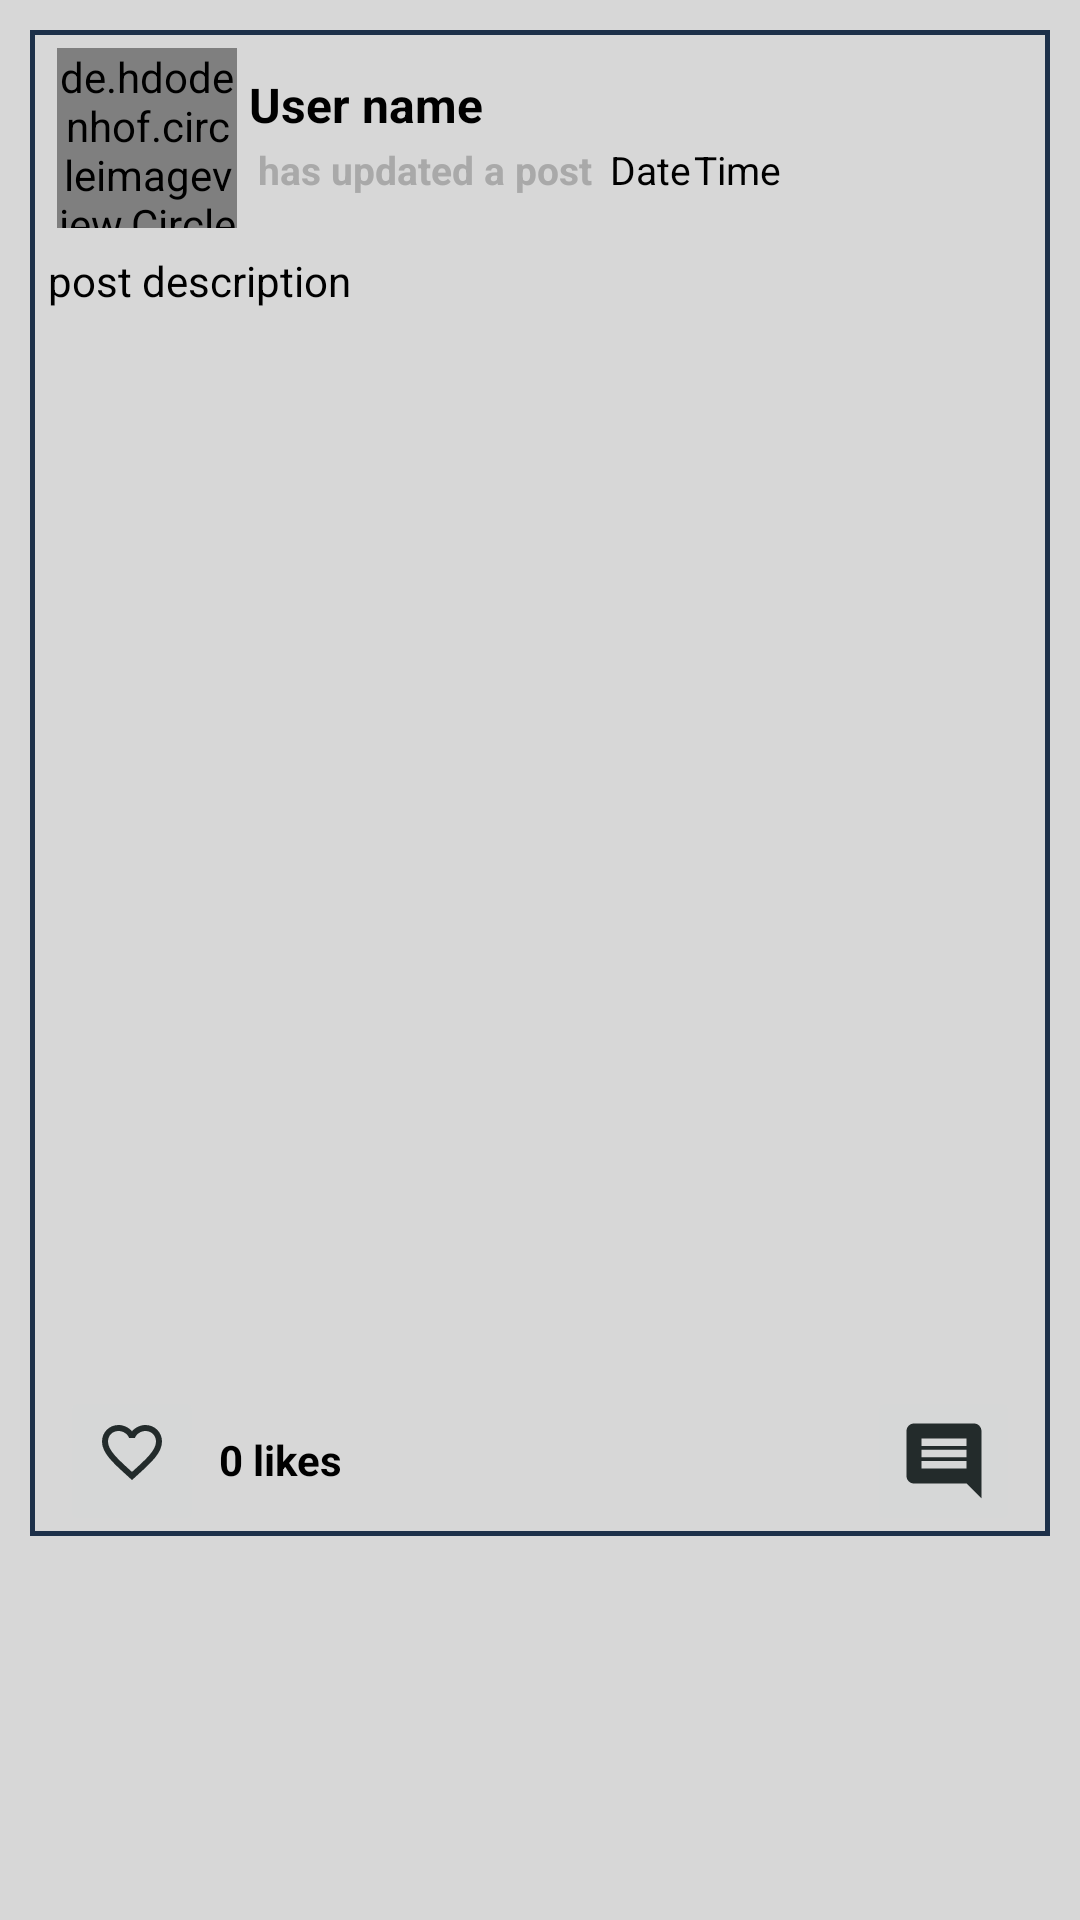

Point at icon controls on the screen. Image size 1080*1920, points as (x=x, y=y).
comment: (x=944, y=1460)
